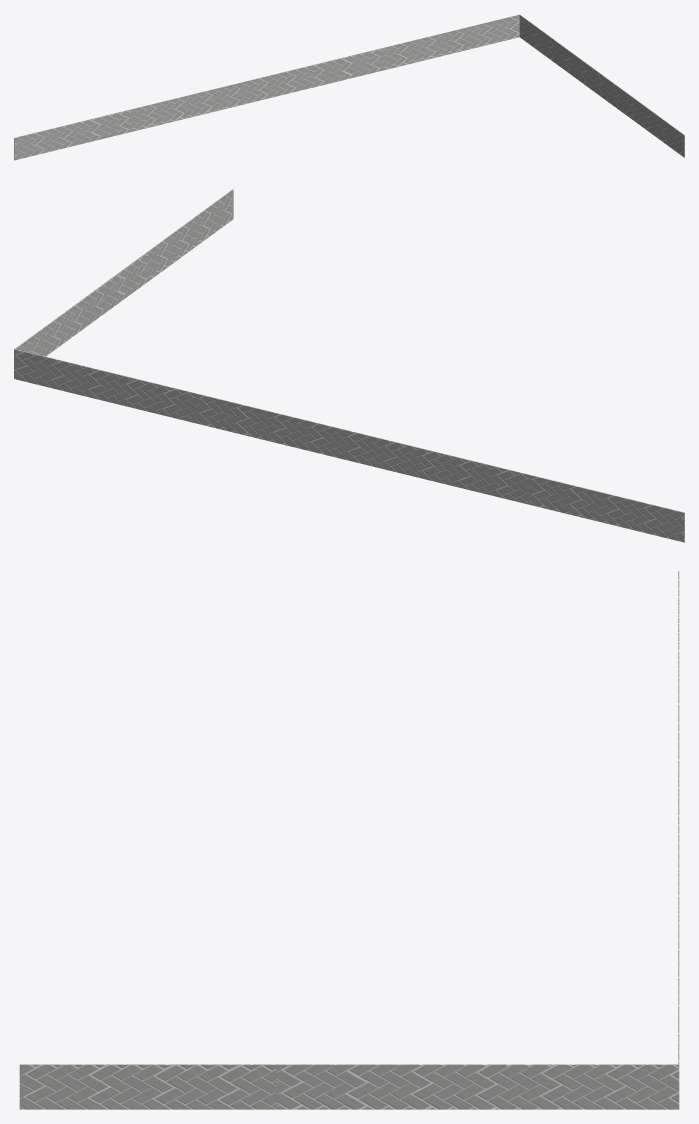
The model's file is BP_Artezen_IdealGrayHerringbone.glb.
3 views of the same model, one above another, from view 1: azimuth 30°, elevation 25°; view 2: azimuth 150°, elevation 25°; view 3: azimuth 270°, elevation 25° (orthographic). The views are drawn at different scales.
Visible parts, largest first — view 1: BKSPLASH_artezen_ideal_gray_herringbone.001; view 2: BKSPLASH_artezen_ideal_gray_herringbone.001; view 3: BKSPLASH_artezen_ideal_gray_herringbone.001.
Part boxes in pixels (x1,y1,x2,y2): BKSPLASH_artezen_ideal_gray_herringbone.001: (14, 14, 684, 160); BKSPLASH_artezen_ideal_gray_herringbone.001: (14, 189, 684, 542); BKSPLASH_artezen_ideal_gray_herringbone.001: (19, 571, 679, 1109).
Size of the model in its own units: 7.1 by 0.3 by 4.01.
Materials: 1 (1 with a texture image).
